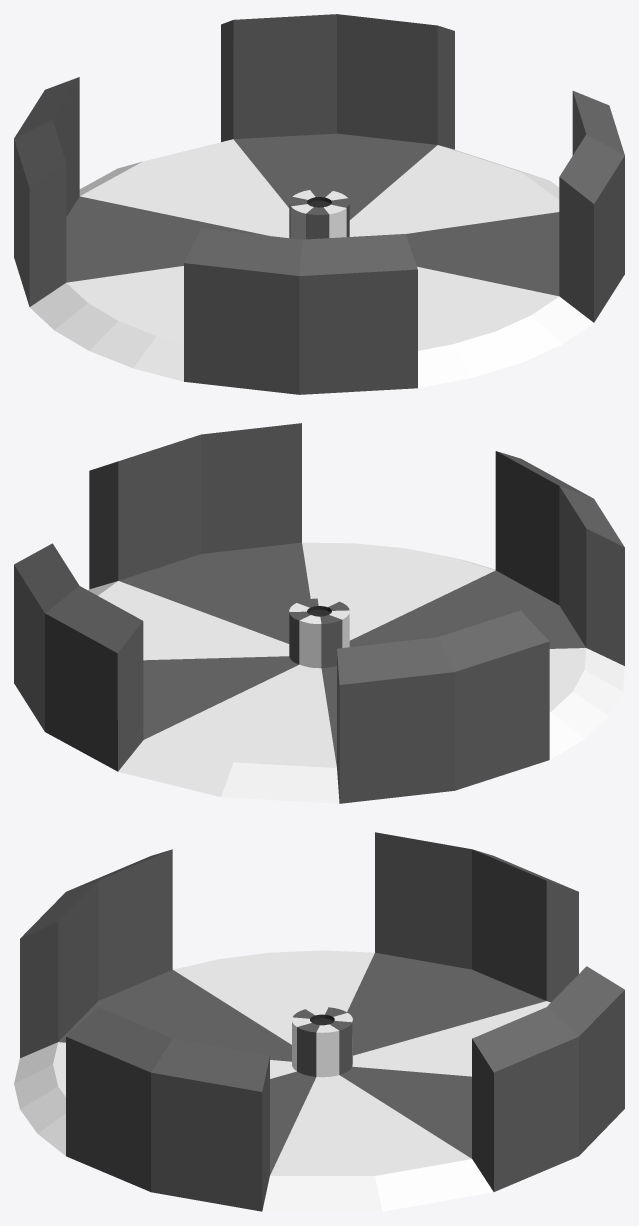
File: tourniquet.fbx
The picture shows the model from 3 angles, top to bottom: view 1: azimuth 30°, elevation 25°; view 2: azimuth 150°, elevation 25°; view 3: azimuth 270°, elevation 25°; orthographic projection.
Visible parts, largest first — view 1: tourniquet; view 2: tourniquet; view 3: tourniquet.
Part boxes in pixels (x1,y1,x2,y2): tourniquet: (14,14,624,394); tourniquet: (14,423,624,803); tourniquet: (14,832,624,1211).
Bounding box in the file's own units: 43.32 × 43.32 × 10.95.
